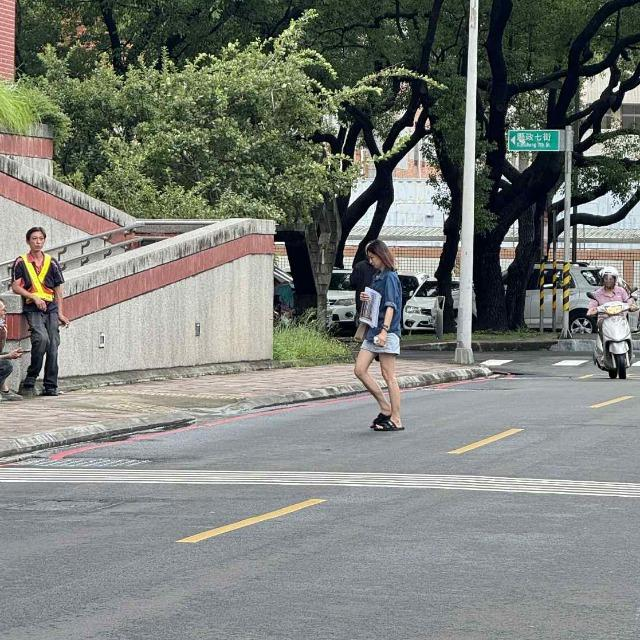Vest: (12, 253, 68, 313)
